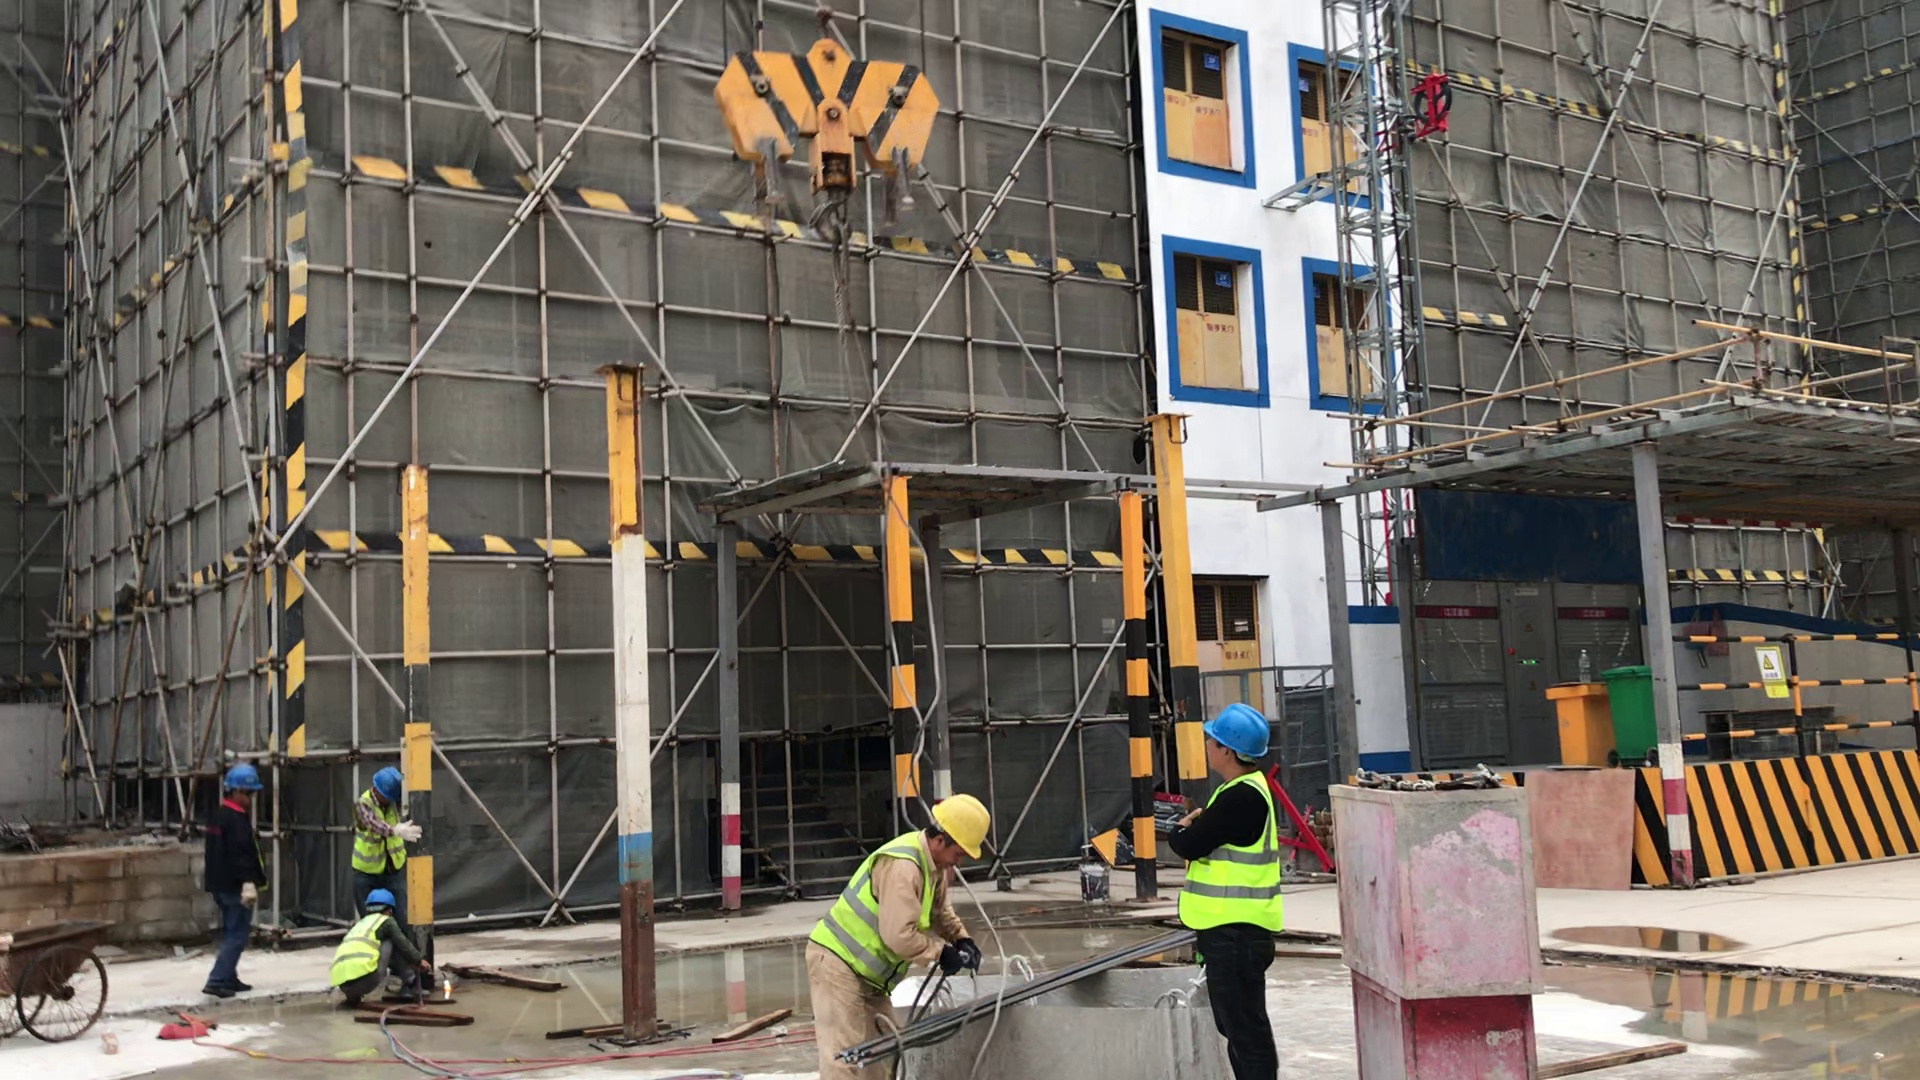handcart: (1, 914, 113, 1044)
helmet: (925, 786, 987, 868), (1199, 700, 1271, 761), (216, 763, 267, 792), (354, 887, 402, 916), (371, 762, 403, 801)
hook: (700, 41, 939, 232)
person: (802, 790, 994, 1080), (1169, 704, 1291, 1080), (212, 761, 267, 1004), (336, 891, 432, 1022), (345, 756, 427, 887)
vest: (804, 826, 948, 994), (1185, 776, 1290, 938), (330, 908, 391, 991), (351, 800, 411, 877)
